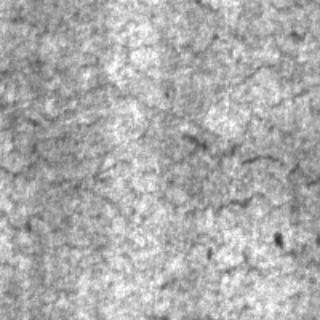crazing: (1, 107, 298, 259), (0, 2, 318, 102)
